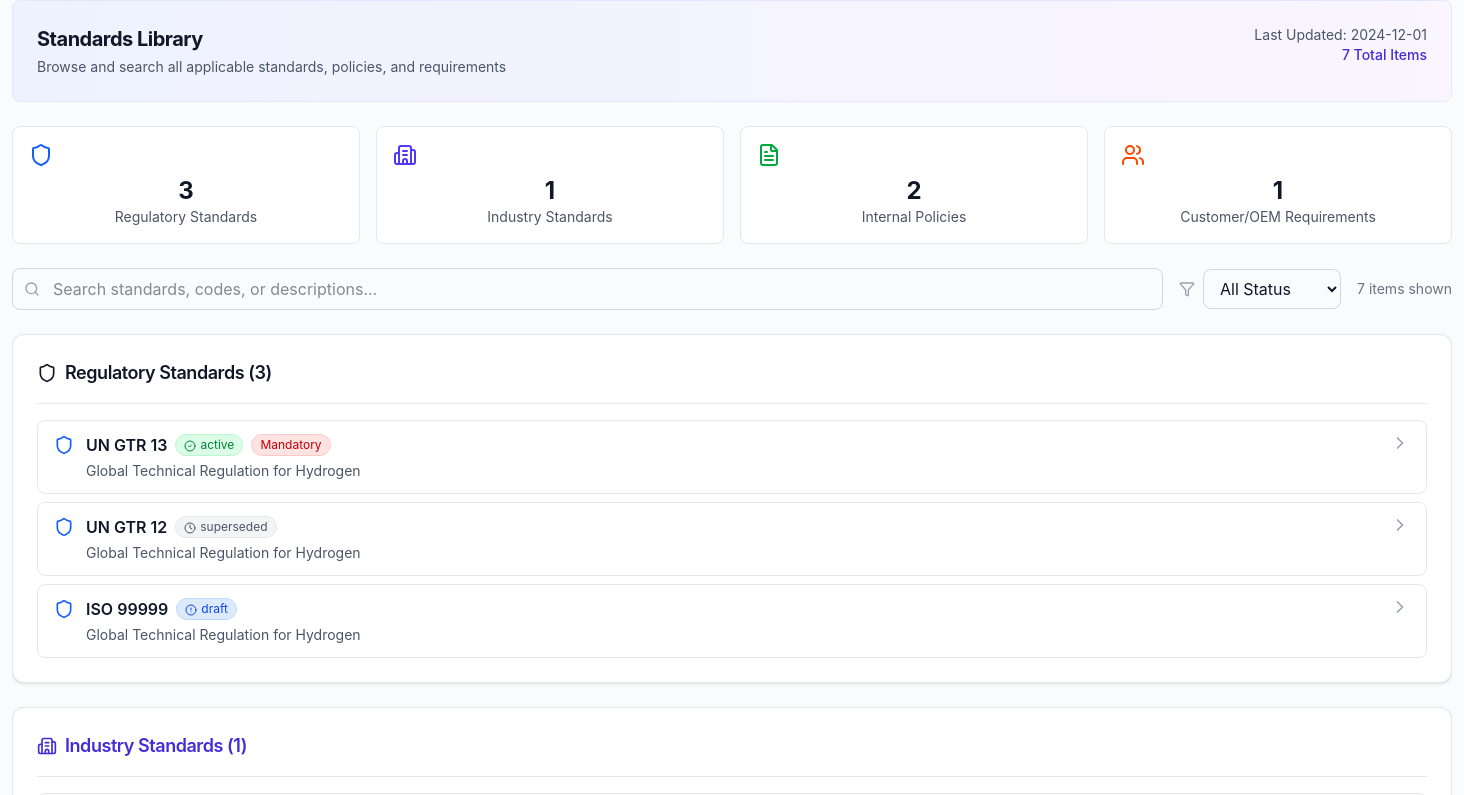
it: StandardsLibraryPanel › Search Functionality › should show empty state when no results
Type "xyznonexistent" into the field with placeholder "Search standards, codes, or descriptions..." at (588, 289), box [12, 268, 1163, 310]
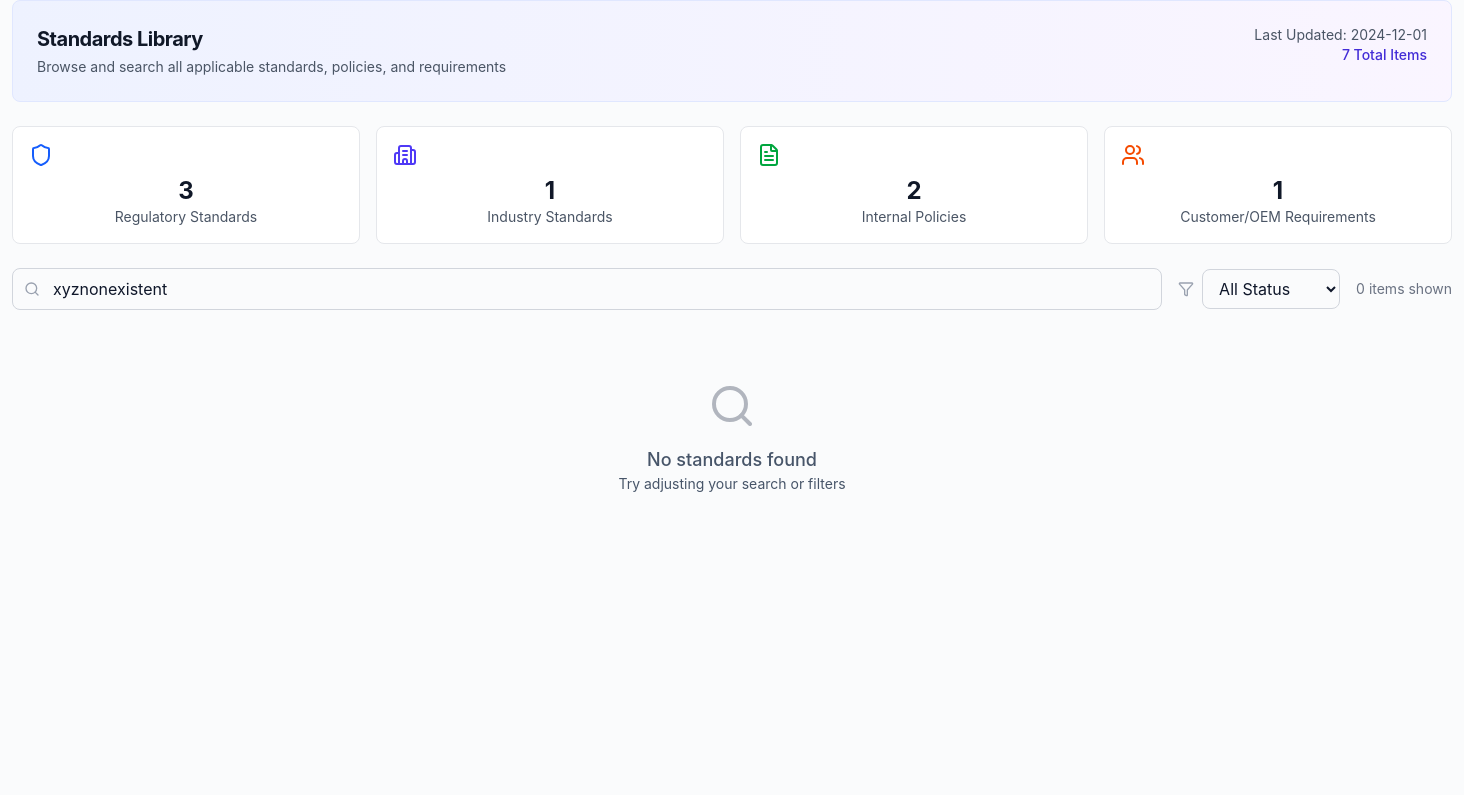
Check: the text "No standards found" is shown, box [647, 449, 817, 470]
Check: the text "Try adjusting your search or filters" is shown, box [618, 475, 846, 492]
